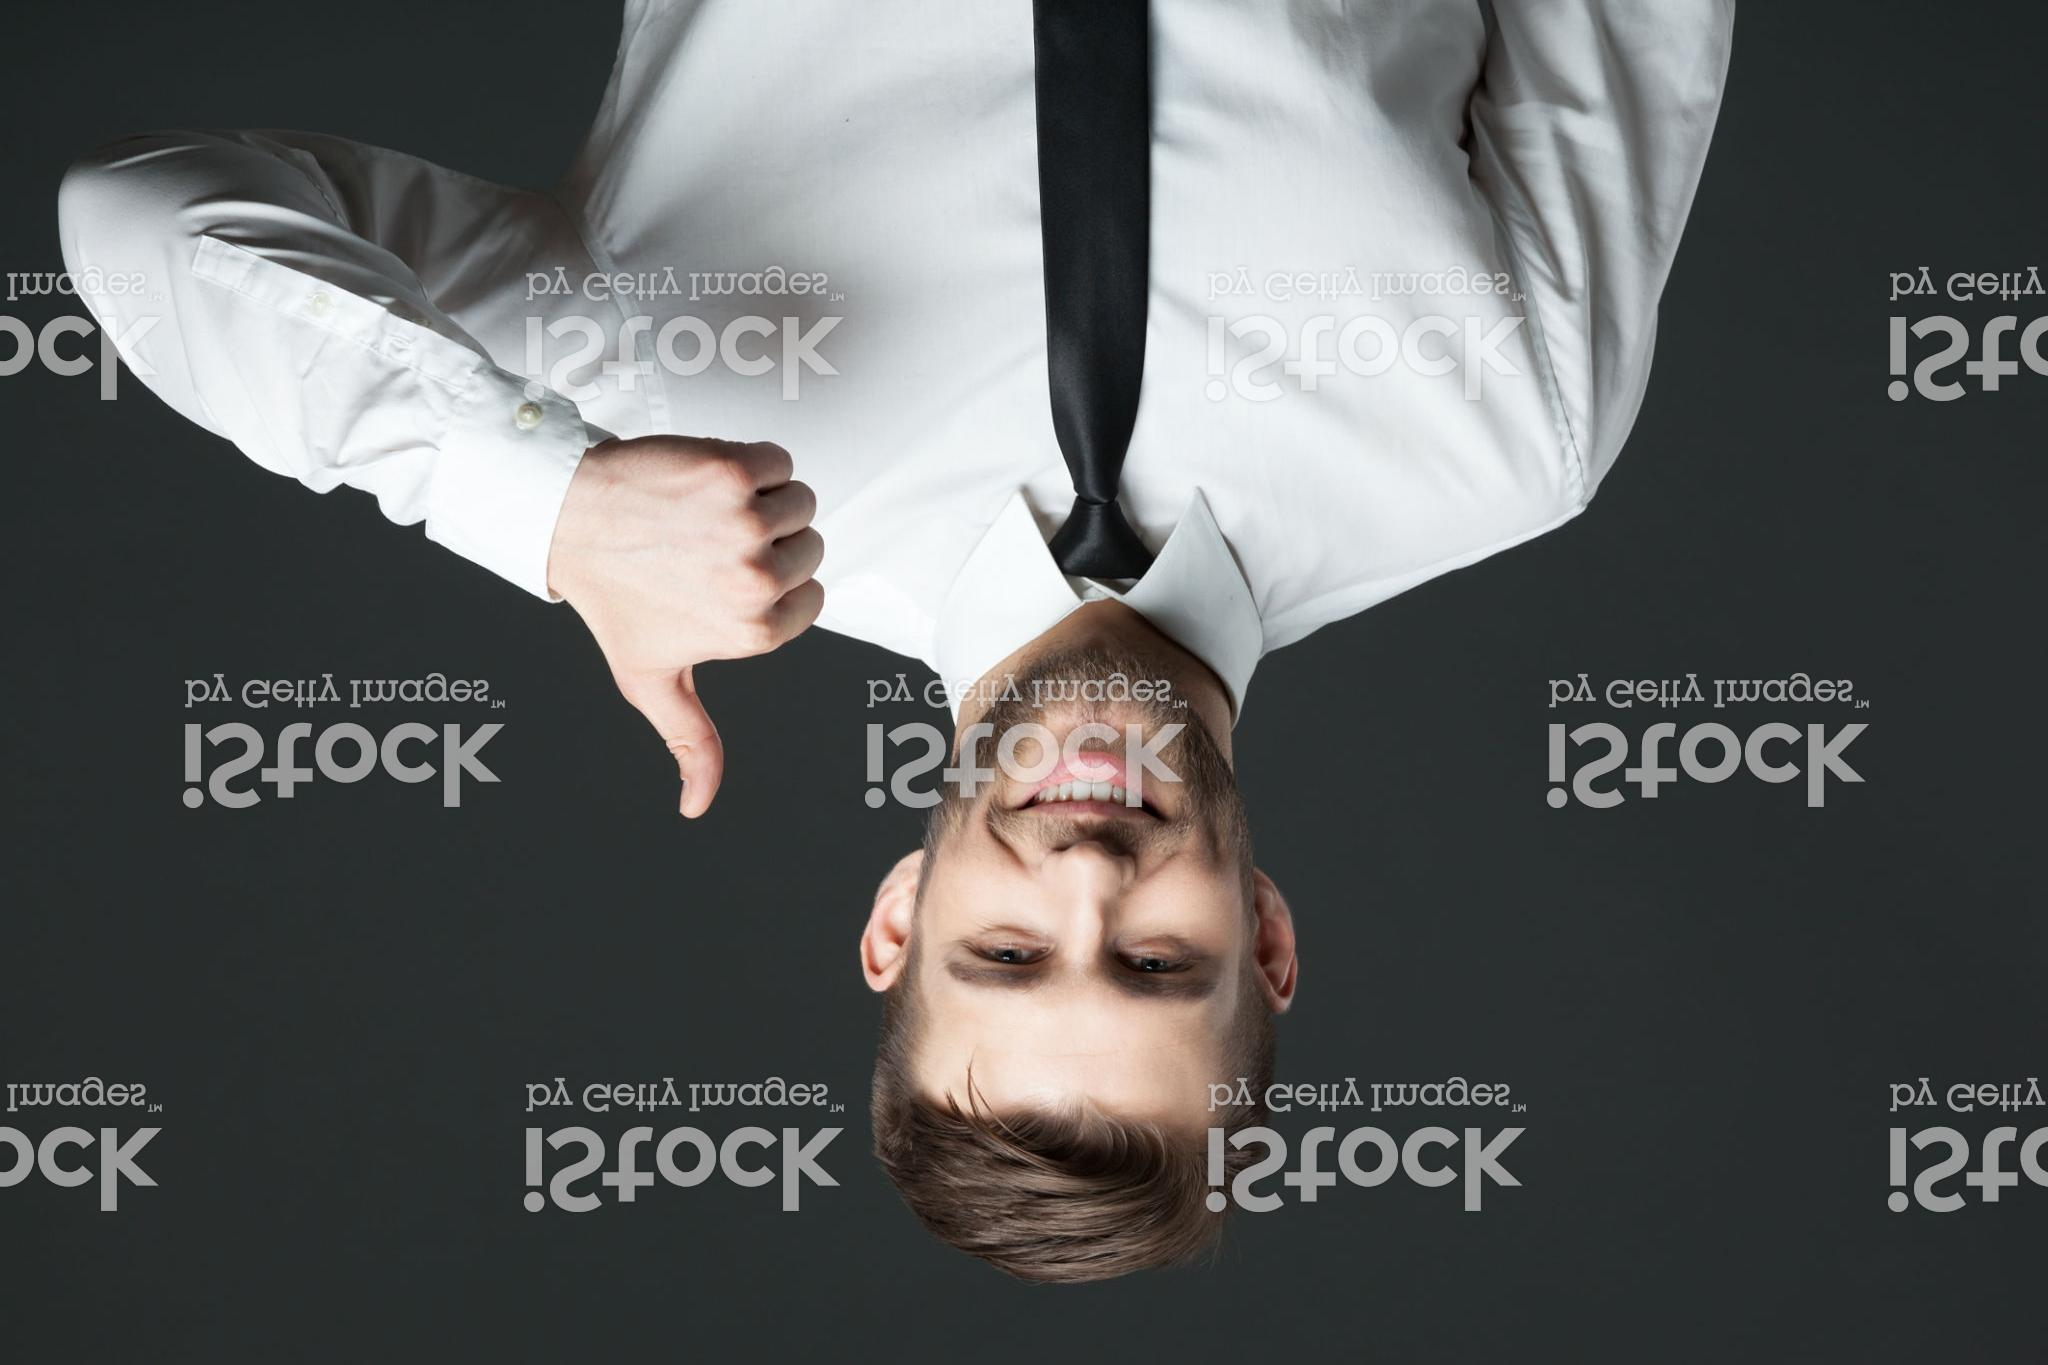thumbsdown: (582, 433, 828, 824)
